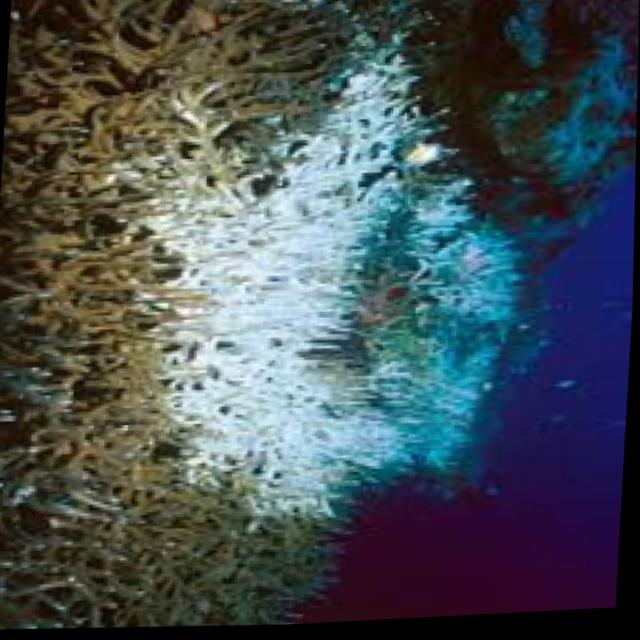Dead Coral: (0, 0, 183, 493), (0, 486, 317, 636), (10, 0, 335, 143)
